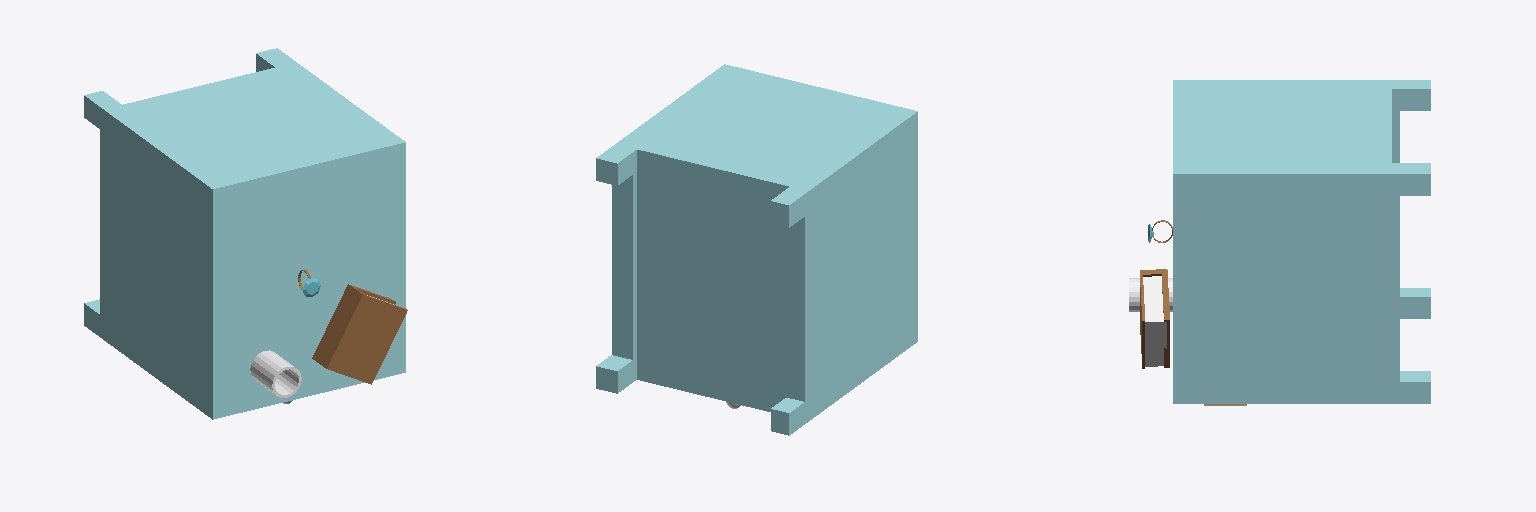
File: tinker.obj
3 views of the same model, side by side, from view 1: azimuth 30°, elevation 25°; view 2: azimuth 150°, elevation 25°; view 3: azimuth 270°, elevation 25° (orthographic).
Visible parts, largest first — view 1: obj_0; view 2: obj_0; view 3: obj_0.
Part boxes in pixels (left/top/right/bottom): obj_0: left=84, top=48, right=407, bottom=419; obj_0: left=596, top=64, right=917, bottom=435; obj_0: left=1129, top=80, right=1430, bottom=405.
Bounding box in the file's own units: 72 × 92 × 97.15.